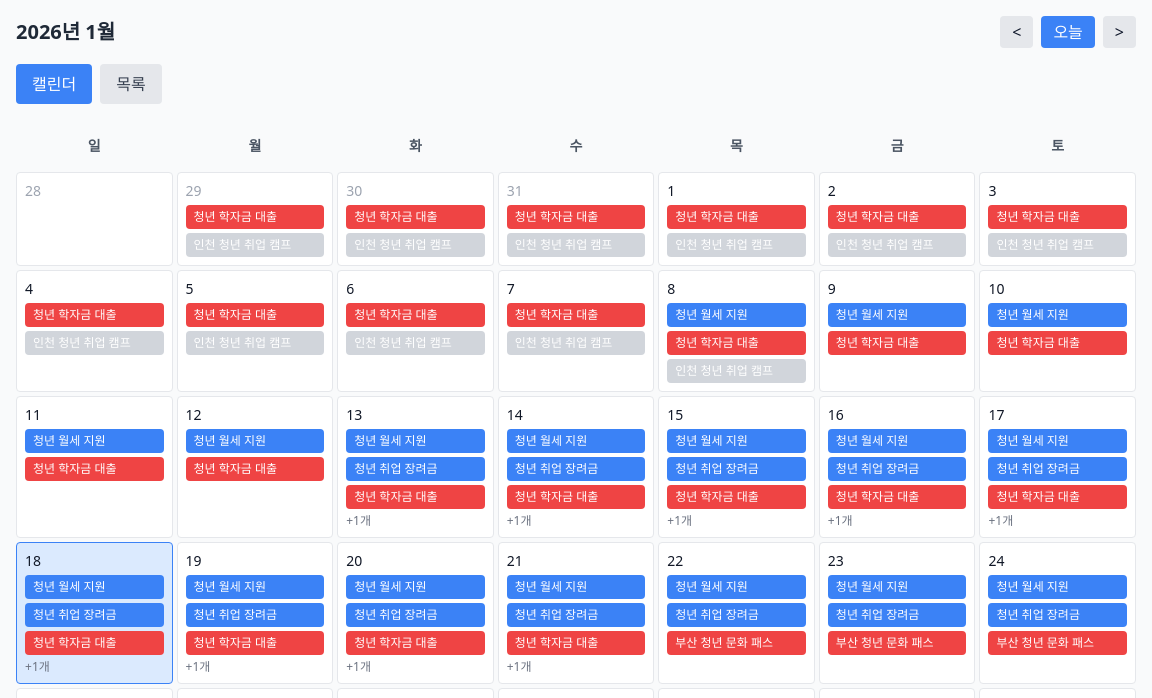
Test: CalendarView › 뷰 타입을 토글할 수 있다
Expected: the heading "2026년 1월" is shown, [16,18,115,46]
# 리스트 뷰로 전환
Click the button "목록" at coordinates (131, 84), box [100,64,162,104]
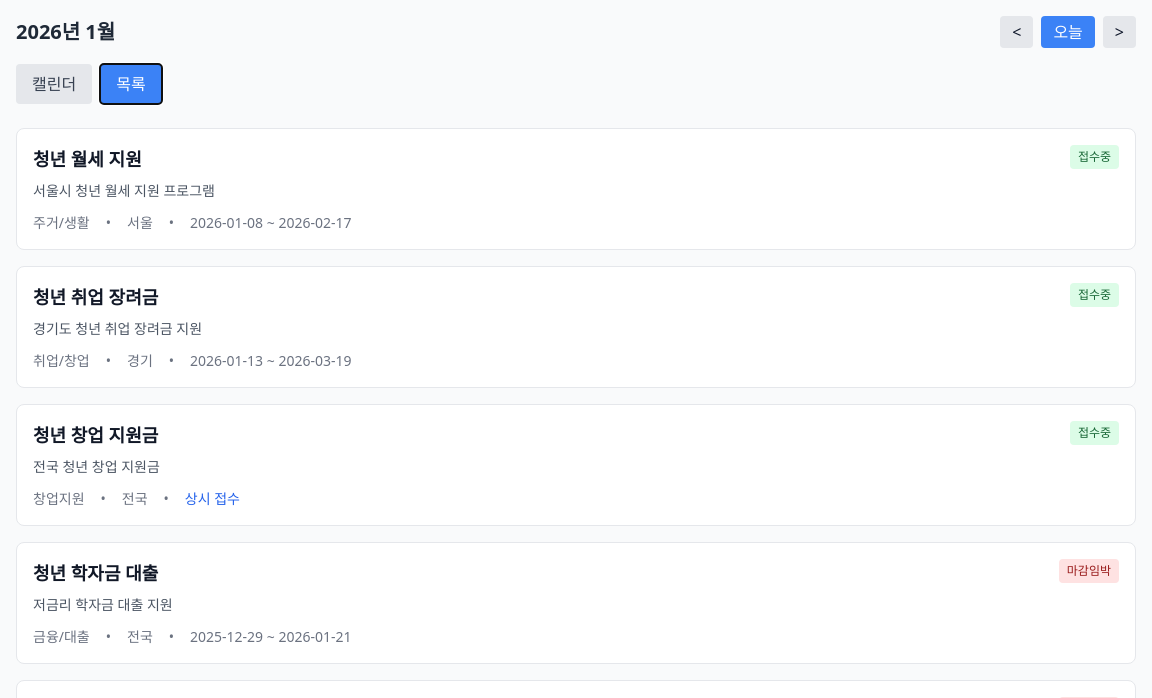
Expected: the heading "청년 월세 지원" is shown, [33,145,142,173]
Result: the text "일" is gone
# 캘린더 뷰로 다시 전환
Click the button "캘린더" at coordinates (54, 84), box [16,64,92,104]
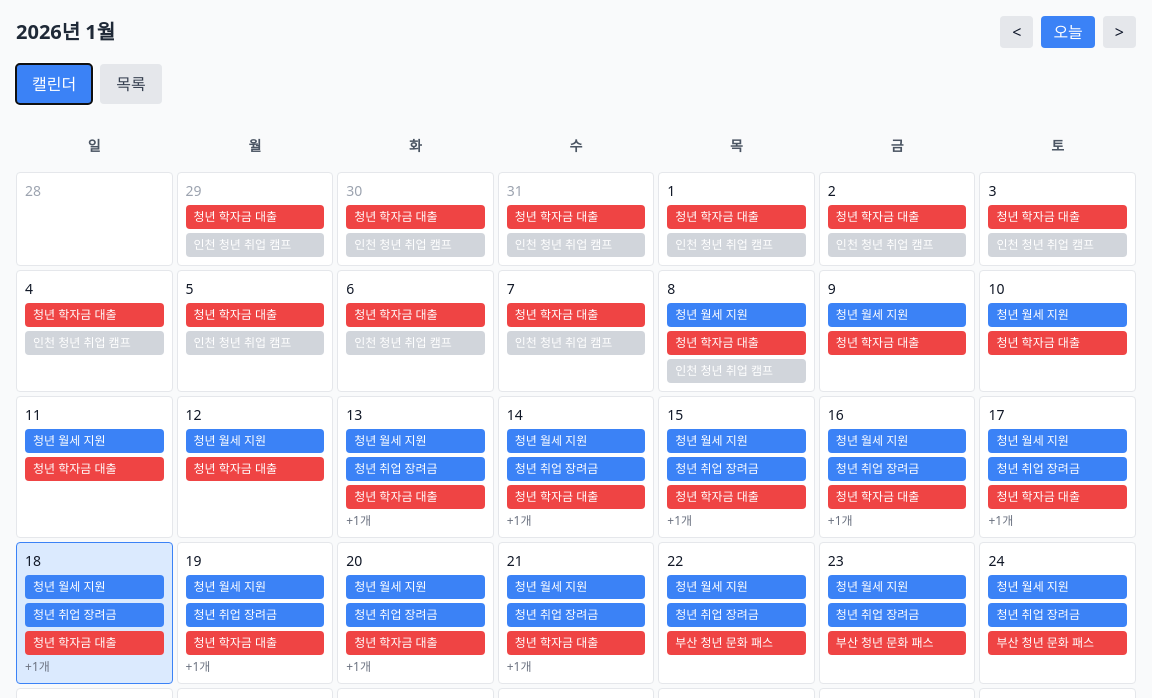
Result: the text "일" is shown at [88,136,101,155]
